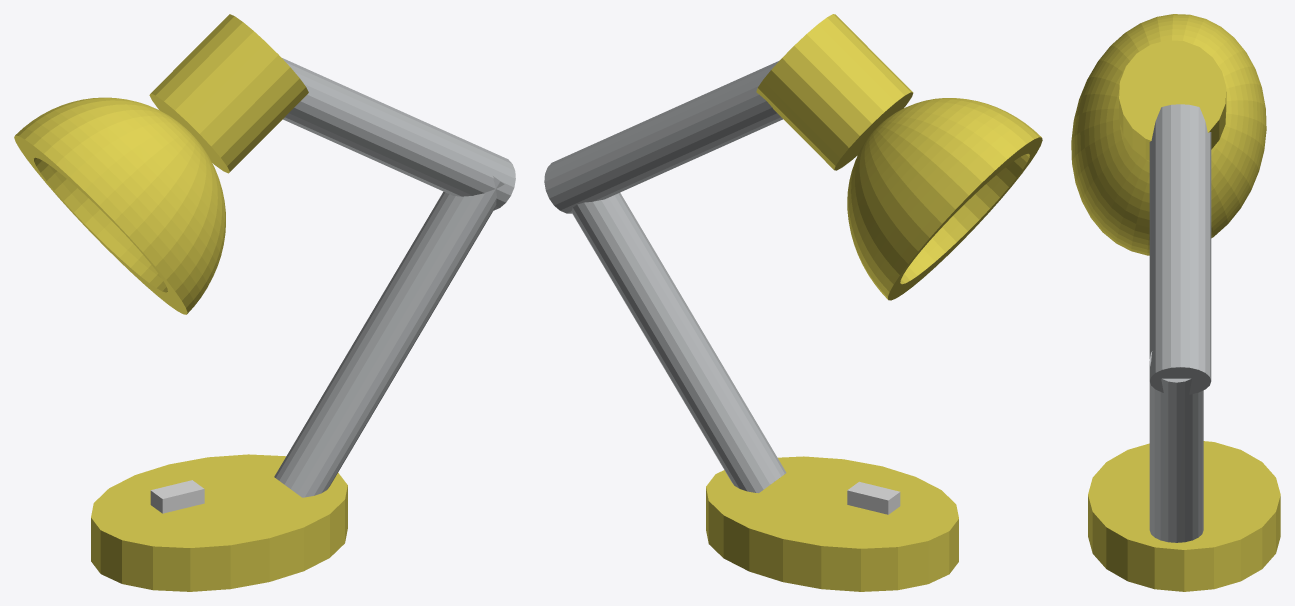
File: light.glb
3 views of the same model, side by side, from view 1: azimuth 30°, elevation 25°; view 2: azimuth 150°, elevation 25°; view 3: azimuth 270°, elevation 25° (orthographic). The views are drawn at different scales.
Visible parts, largest first — view 1: Mesh_Mesh_head_geo.001_lambert2SG.001; view 2: Mesh_Mesh_head_geo.001_lambert2SG.001; view 3: Mesh_Mesh_head_geo.001_lambert2SG.001.
Boxes of the visible parts, x1,y1,x2,y2 form: Mesh_Mesh_head_geo.001_lambert2SG.001: [14, 14, 515, 591]; Mesh_Mesh_head_geo.001_lambert2SG.001: [544, 14, 1042, 591]; Mesh_Mesh_head_geo.001_lambert2SG.001: [1071, 14, 1280, 591].
Size of the model in its own units: 68.56 by 72.01 by 27.17.
